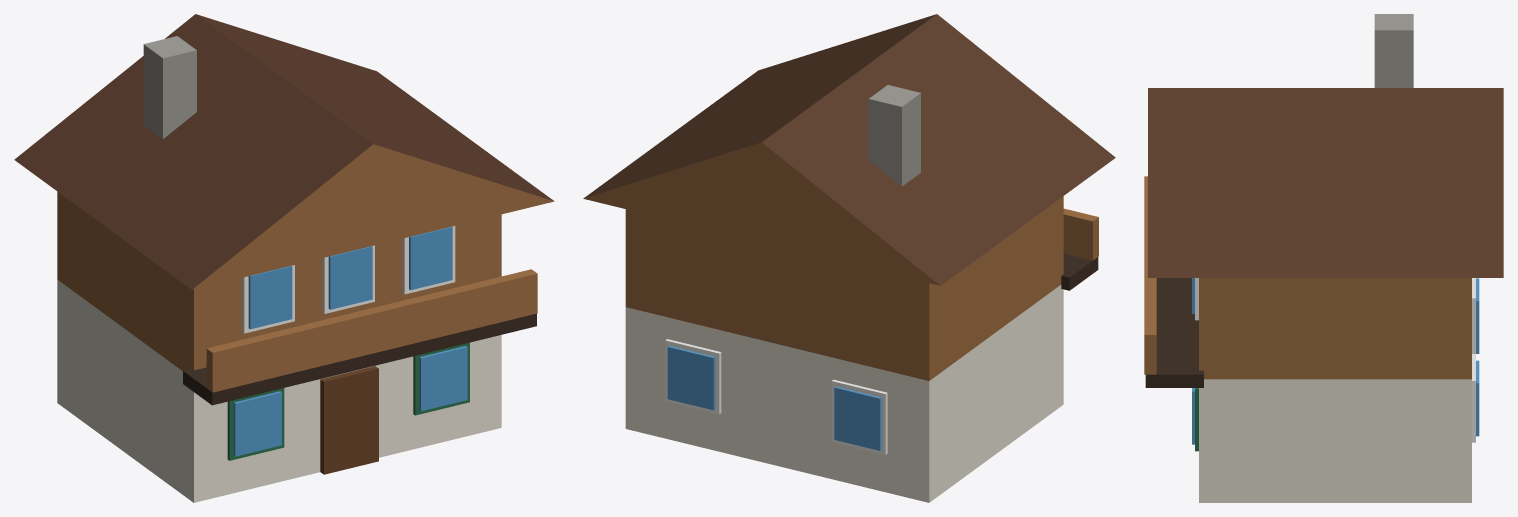
File: 16_bavarian_chalet_1.obj
3 renders of one model, left to right at view 1: azimuth 30°, elevation 25°; view 2: azimuth 150°, elevation 25°; view 3: azimuth 270°, elevation 25°, orthographic.
Parts seen in each view (by area): view 1: 16_bavarian_chalet_1; view 2: 16_bavarian_chalet_1; view 3: 16_bavarian_chalet_1.
Part boxes in pixels (box(x1,y1,x2,y2)): 16_bavarian_chalet_1: box(14, 14, 554, 502); 16_bavarian_chalet_1: box(583, 14, 1115, 502); 16_bavarian_chalet_1: box(1144, 14, 1503, 502).
Size of the model in its own units: 1.72 by 1.66 by 1.48.
